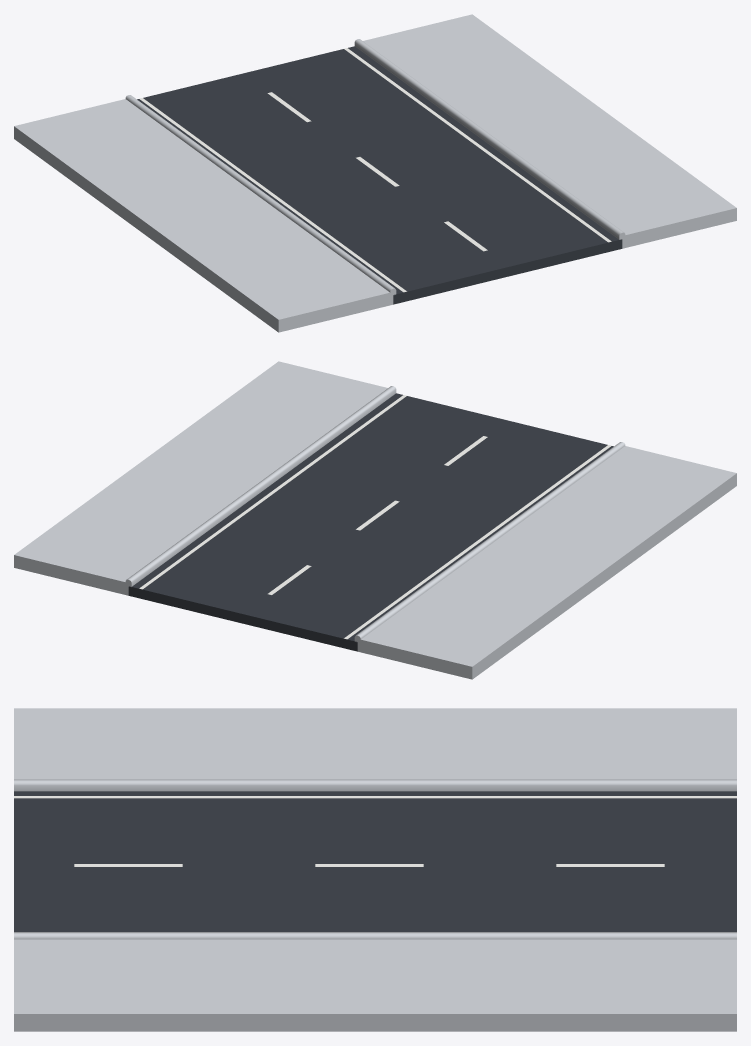
Rendered from rua_reta.glb.
The picture shows the model from 3 angles, top to bottom: view 1: azimuth 30°, elevation 25°; view 2: azimuth 150°, elevation 25°; view 3: azimuth 270°, elevation 25°; orthographic projection. The views are drawn at different scales.
Visible parts, largest first — view 1: rua_reta; view 2: rua_reta; view 3: rua_reta.
Part boxes in pixels (bbox=[...]): rua_reta: bbox=[14, 14, 736, 332]; rua_reta: bbox=[14, 361, 736, 679]; rua_reta: bbox=[14, 708, 736, 1031].
Size of the model in its own units: 15 by 0.5 by 15.
Materials: 1 (1 with a texture image).
